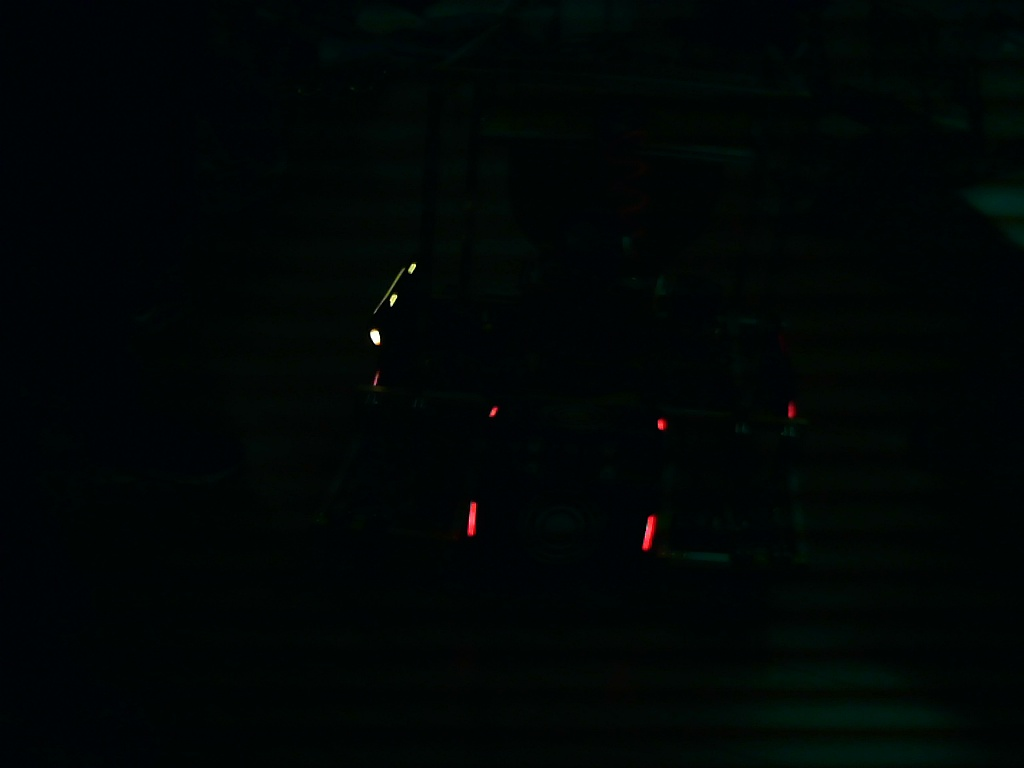lamp: (640, 508, 658, 554), (465, 495, 481, 541)
